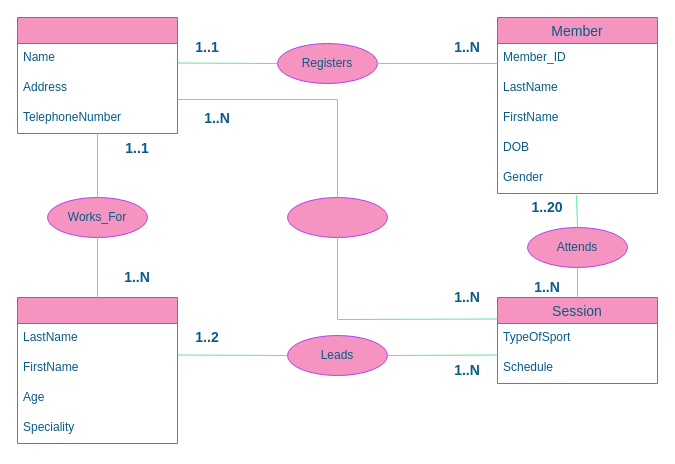
The diagram is 675 pixels wide and 464 high, and some of its shapes have lost their labels. Each missing label, with the box of its shape:
Contains: (286, 196, 388, 238)
Gym: (16, 16, 178, 134)
Trainer: (16, 296, 178, 444)
